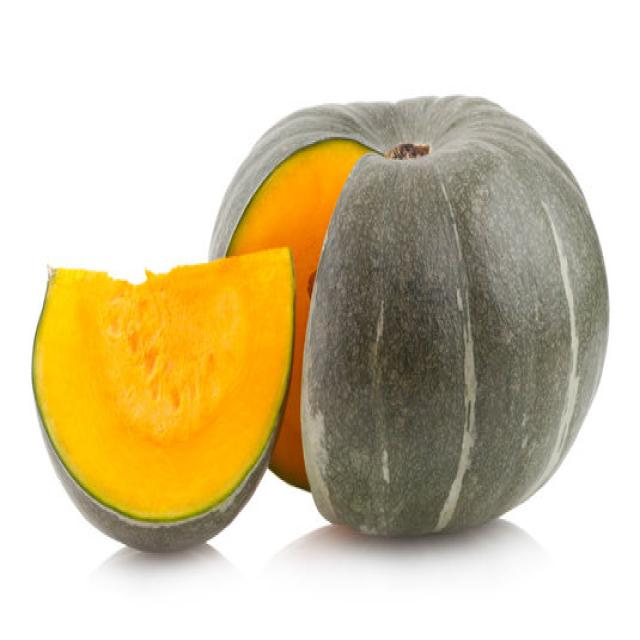Pumpkin: (207, 91, 610, 537), (30, 243, 297, 553)
